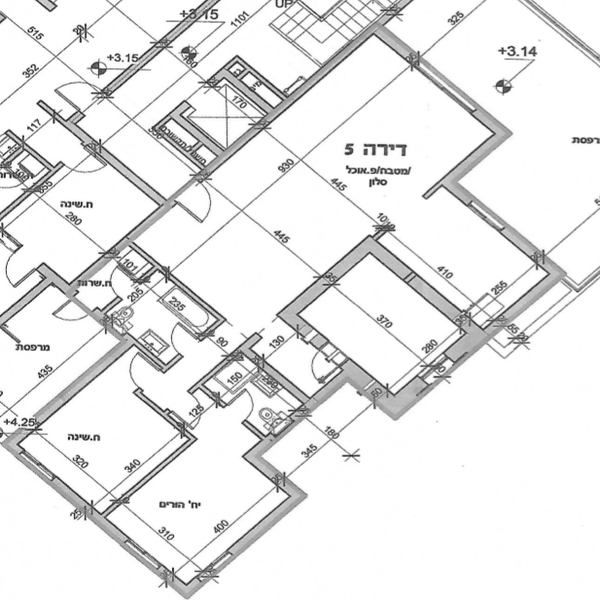door: (176, 177, 222, 230), (125, 349, 170, 392), (4, 247, 46, 285), (57, 80, 103, 111), (59, 149, 107, 176), (174, 394, 207, 433), (165, 324, 206, 355), (307, 340, 337, 381), (107, 265, 143, 299), (222, 386, 255, 420), (51, 300, 96, 324)
